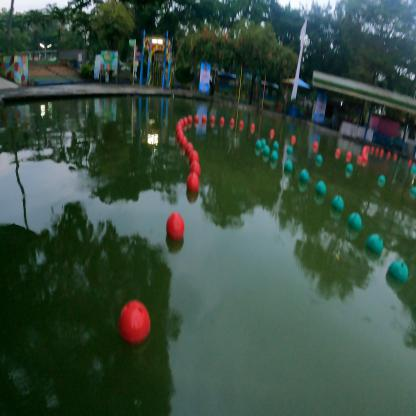green_buoy: (389, 254, 408, 282), (366, 229, 384, 255), (347, 210, 362, 232), (329, 195, 345, 213), (300, 167, 310, 183), (316, 180, 326, 196), (284, 159, 293, 172), (378, 174, 386, 185), (263, 144, 270, 156), (271, 150, 278, 161), (346, 163, 353, 173), (287, 144, 293, 155), (255, 139, 262, 148), (273, 140, 279, 150), (410, 186, 415, 198), (316, 154, 323, 162), (410, 166, 416, 174), (261, 138, 266, 146)
red_buoy: (117, 294, 151, 344), (165, 211, 185, 242), (187, 172, 200, 192), (189, 160, 201, 173), (188, 151, 200, 163), (185, 142, 194, 154), (180, 136, 188, 145), (175, 121, 183, 129), (177, 130, 184, 137), (335, 147, 341, 155), (176, 126, 182, 133), (194, 114, 199, 122), (187, 114, 192, 122), (179, 117, 184, 125), (239, 119, 244, 127), (347, 151, 352, 159), (357, 156, 363, 162), (183, 116, 188, 123), (314, 141, 318, 149), (364, 155, 368, 163), (230, 118, 235, 124), (292, 135, 297, 141), (362, 152, 367, 158), (202, 114, 206, 121), (387, 150, 391, 157), (211, 115, 215, 121), (251, 123, 255, 129), (221, 116, 224, 122), (381, 149, 384, 155), (270, 130, 274, 134), (376, 147, 379, 152), (394, 153, 397, 158), (409, 159, 412, 164), (371, 146, 374, 150)
